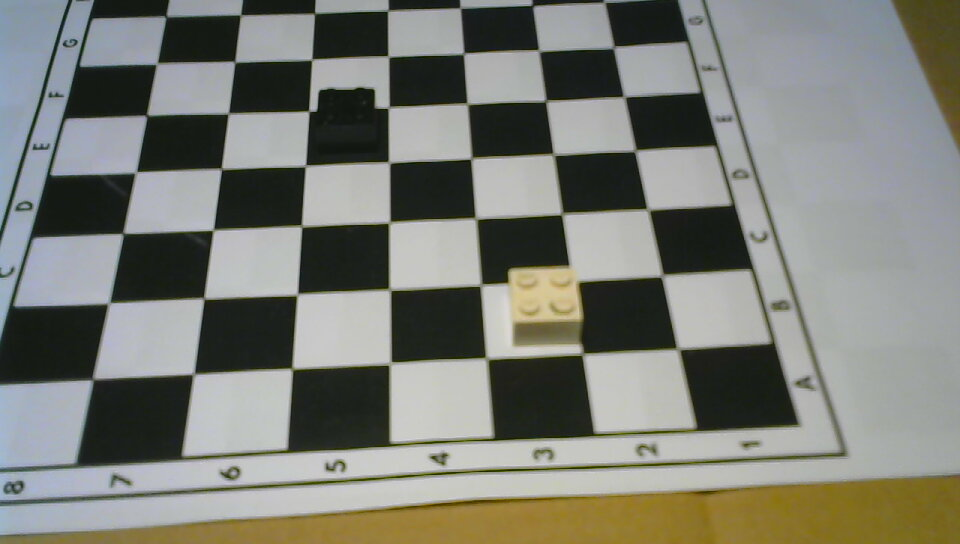bp: (315, 86, 377, 154)
wp: (504, 264, 583, 345)
